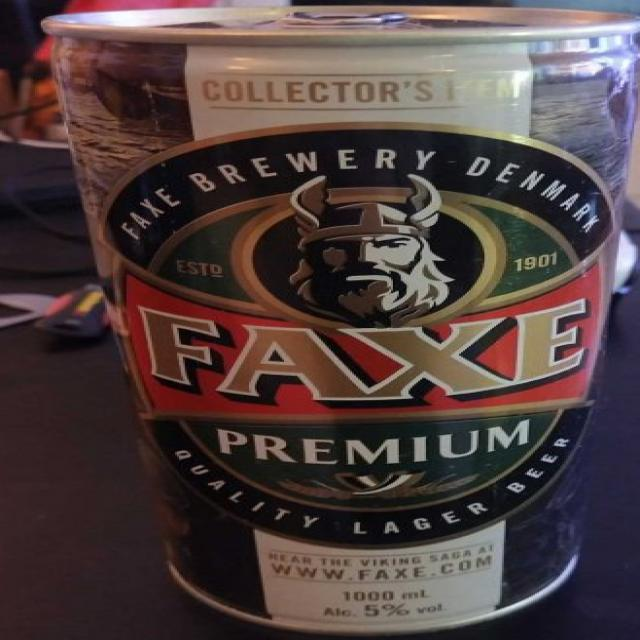FAXE Premium: (2, 0, 640, 640)
